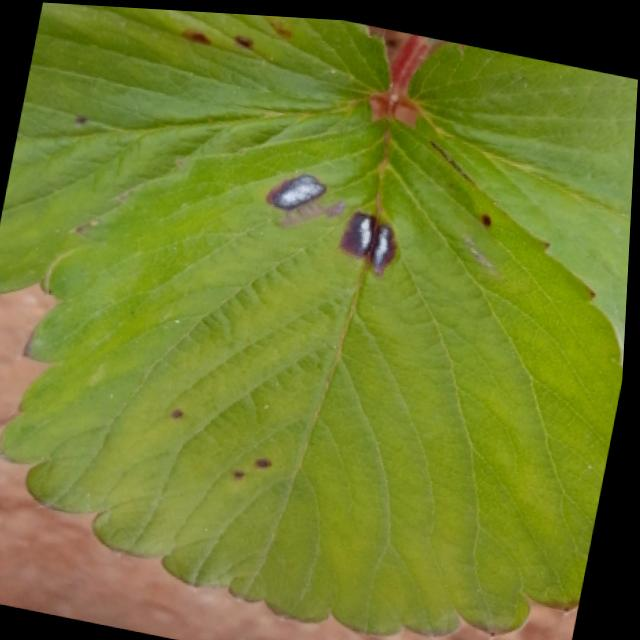Leaf Spot: (2, 92, 627, 635), (0, 2, 388, 295)
